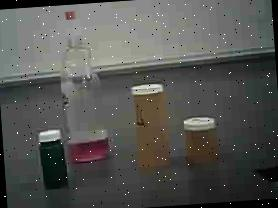Bottle A: (129, 81, 174, 177)
Bottle B: (178, 102, 221, 170)
Bottle C: (34, 127, 74, 192)
hazard: (47, 3, 124, 166)
